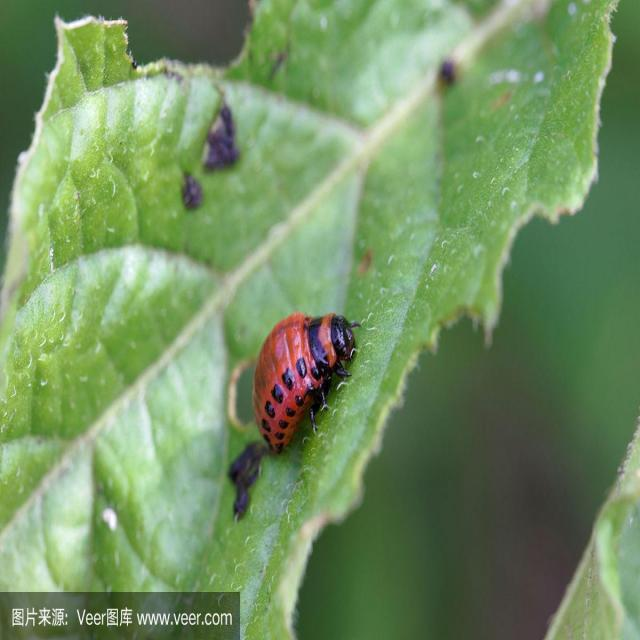ShuCaiHuaBanChong-Larva-: (229, 292, 360, 455)
